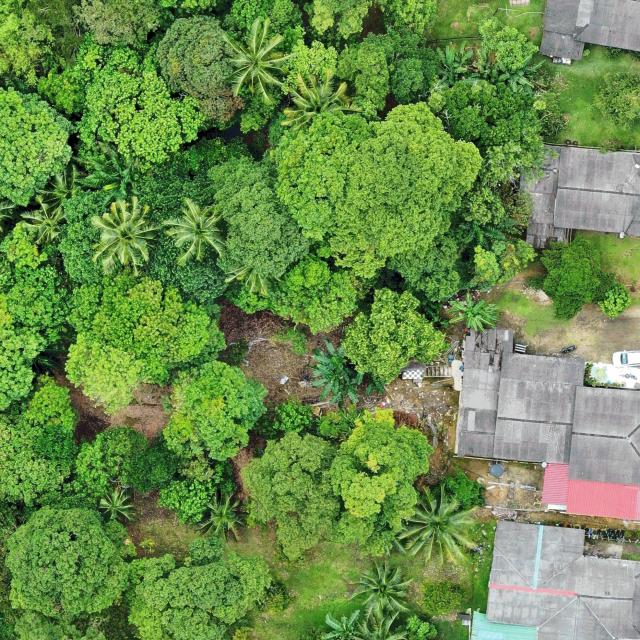Tree: (272, 102, 480, 281), (57, 135, 251, 295), (63, 275, 228, 414), (39, 46, 203, 166), (120, 535, 274, 640), (3, 500, 136, 619), (239, 430, 343, 564), (0, 219, 64, 407), (148, 12, 246, 134), (208, 158, 306, 279), (329, 408, 435, 518), (161, 358, 269, 463), (338, 286, 449, 388), (0, 385, 82, 504), (0, 84, 74, 208), (338, 28, 439, 111), (270, 254, 362, 335), (78, 426, 177, 498), (540, 232, 616, 324), (399, 481, 479, 567), (479, 113, 560, 187), (446, 78, 532, 144), (156, 458, 236, 526), (224, 20, 290, 100), (91, 198, 159, 270), (66, 0, 162, 47), (163, 199, 226, 263), (348, 560, 416, 617), (282, 36, 339, 96), (222, 0, 304, 41), (36, 163, 96, 219), (471, 239, 539, 288), (478, 16, 540, 68), (306, 0, 387, 39), (593, 71, 640, 133), (443, 289, 501, 334), (196, 490, 244, 539), (310, 363, 362, 405), (495, 56, 546, 95), (442, 466, 486, 511), (382, 0, 438, 35), (433, 38, 472, 88), (180, 258, 223, 302), (22, 205, 66, 242), (271, 399, 314, 434), (310, 339, 347, 375), (599, 285, 634, 318), (324, 609, 361, 640), (467, 46, 493, 78)
